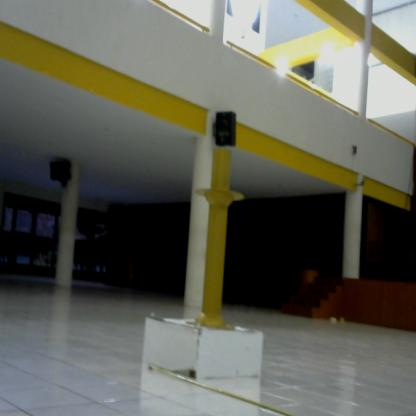pole: (190, 154, 247, 336)
